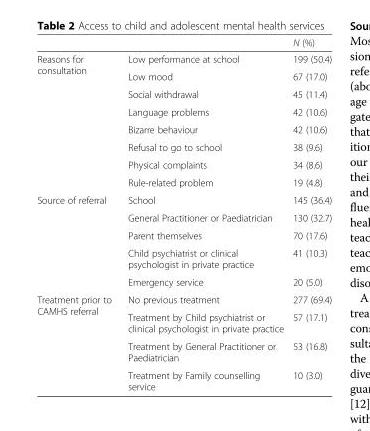table: (36, 36, 331, 391)
table column: (119, 36, 287, 391), (36, 36, 119, 391), (287, 36, 331, 391)
table column header: (36, 36, 331, 50)
table row: (36, 243, 331, 272), (36, 308, 331, 337), (36, 337, 331, 366), (36, 366, 331, 391), (36, 67, 331, 85), (36, 102, 331, 120), (36, 120, 331, 138), (36, 155, 331, 173), (36, 190, 331, 208), (36, 208, 331, 226), (36, 272, 331, 290), (36, 290, 331, 308), (36, 50, 331, 67), (36, 85, 331, 102), (36, 138, 331, 155), (36, 173, 331, 190), (36, 226, 331, 243), (36, 36, 331, 50)
table spanning cell: (36, 50, 119, 190), (36, 290, 119, 391), (36, 190, 119, 290)
